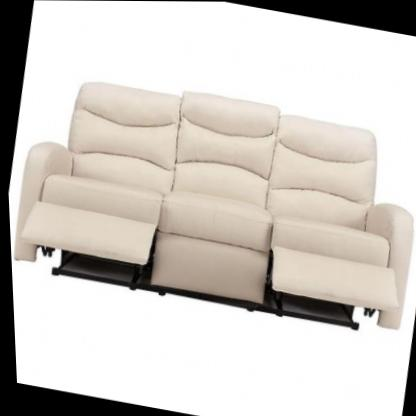Sofa: (2, 55, 416, 358)
